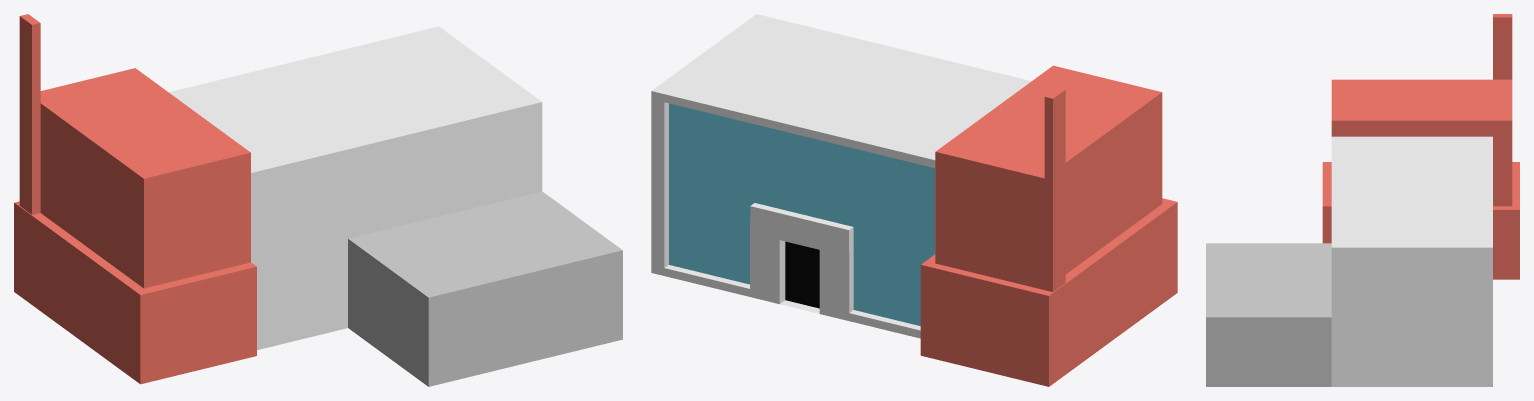
The model's file is Skyscraper_11.fbx.
3 renders of one model, left to right at view 1: azimuth 30°, elevation 25°; view 2: azimuth 150°, elevation 25°; view 3: azimuth 270°, elevation 25°, orthographic. The views are drawn at different scales.
Visible parts, largest first — view 1: Building_26; view 2: Building_26; view 3: Building_26.
Part boxes in pixels (x1,y1,x2,y2): Building_26: (14,14,622,386); Building_26: (651,14,1177,386); Building_26: (1206,14,1519,386).
Bounding box in the file's own units: 4328 × 2833 × 3695.
